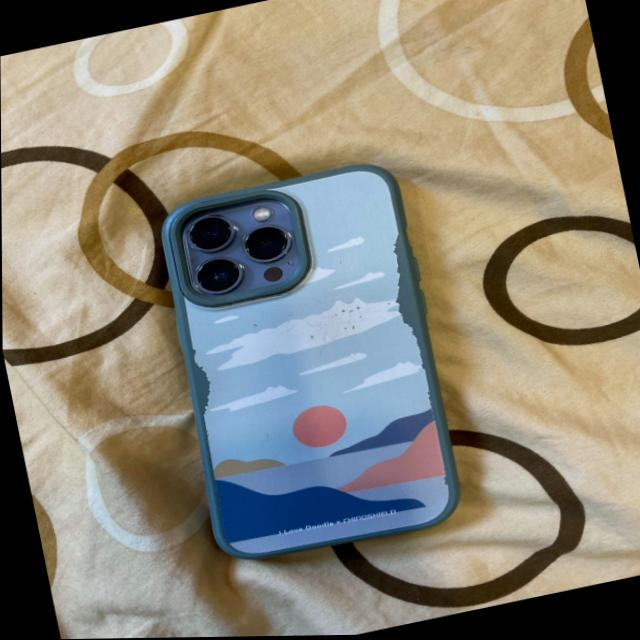Smartphone: (140, 151, 475, 588)
